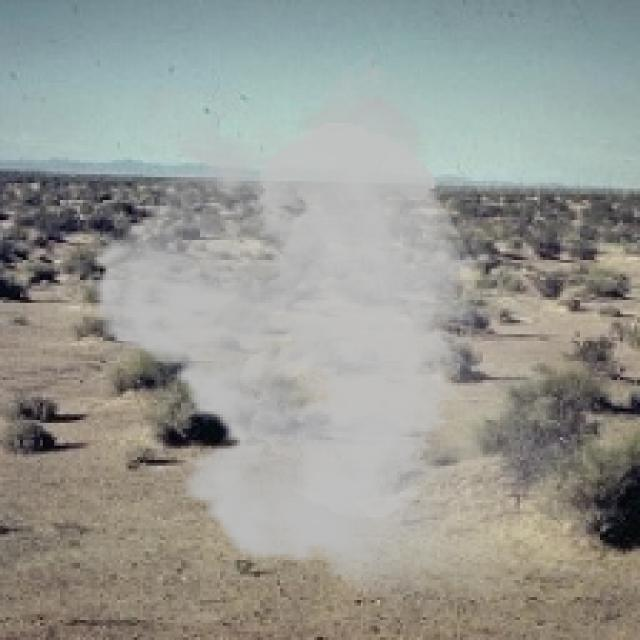Smoke: (72, 49, 638, 608)
